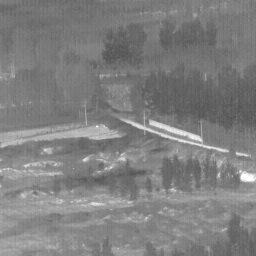aircraft: (96, 126, 98, 128)
